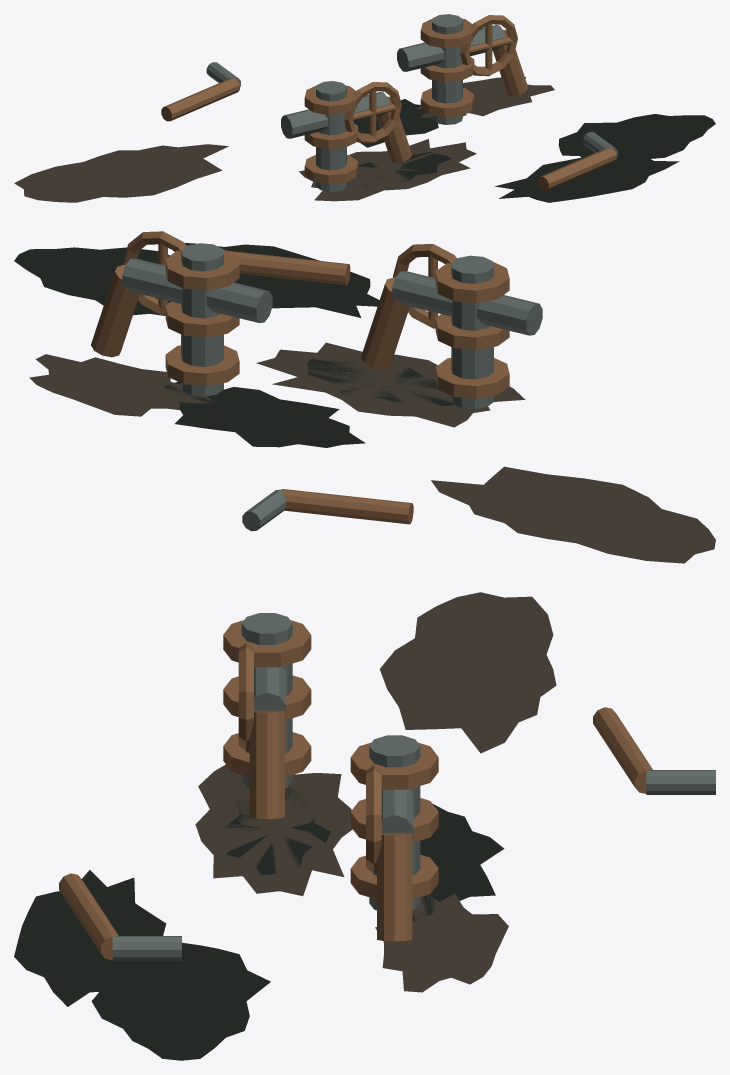
Rendered from oil_small.glb.
3 views of the same model, one above another, from view 1: azimuth 30°, elevation 25°; view 2: azimuth 150°, elevation 25°; view 3: azimuth 270°, elevation 25° (orthographic). The views are drawn at different scales.
Parts seen in each view (by area): view 1: Cylinder; view 2: Cylinder; view 3: Cylinder.
Part boxes in pixels (x1,y1,x2,y2): Cylinder: (14,14,715,202); Cylinder: (14,231,715,563); Cylinder: (14,592,715,1060).
Bounding box in the file's own units: 4.8 × 0.773 × 3.04.
